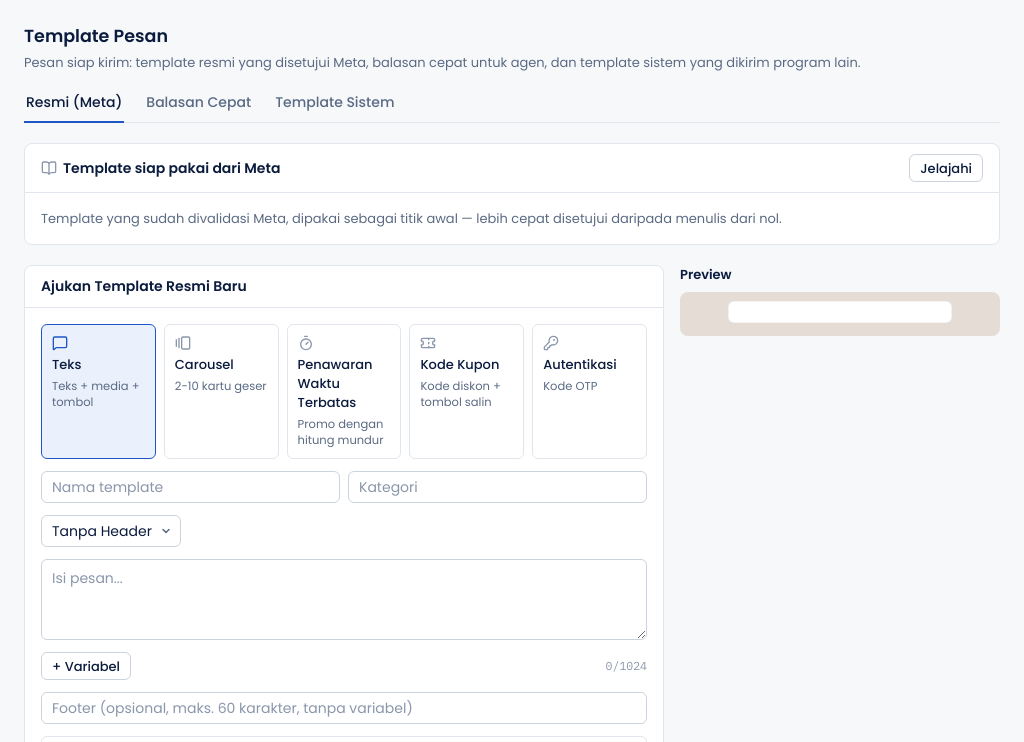
Test: TemplatesPage — carousel builder › adds a button to a card and shows the URL field only for a URL button
Expected: the element named "Format template" is shown, [41,324,647,459]
Click the text "Carousel" at (204, 364), box [175,355,234,374]
(page scrolled)
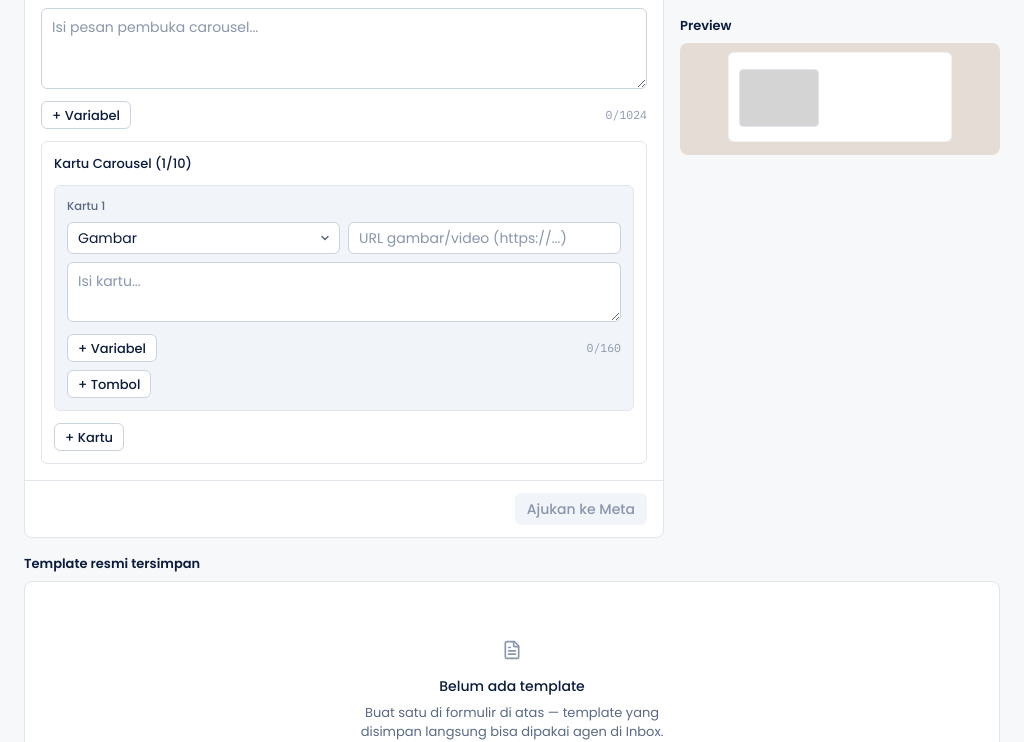
Click the button "+ Tombol" at (109, 384), box [67,370,151,398]
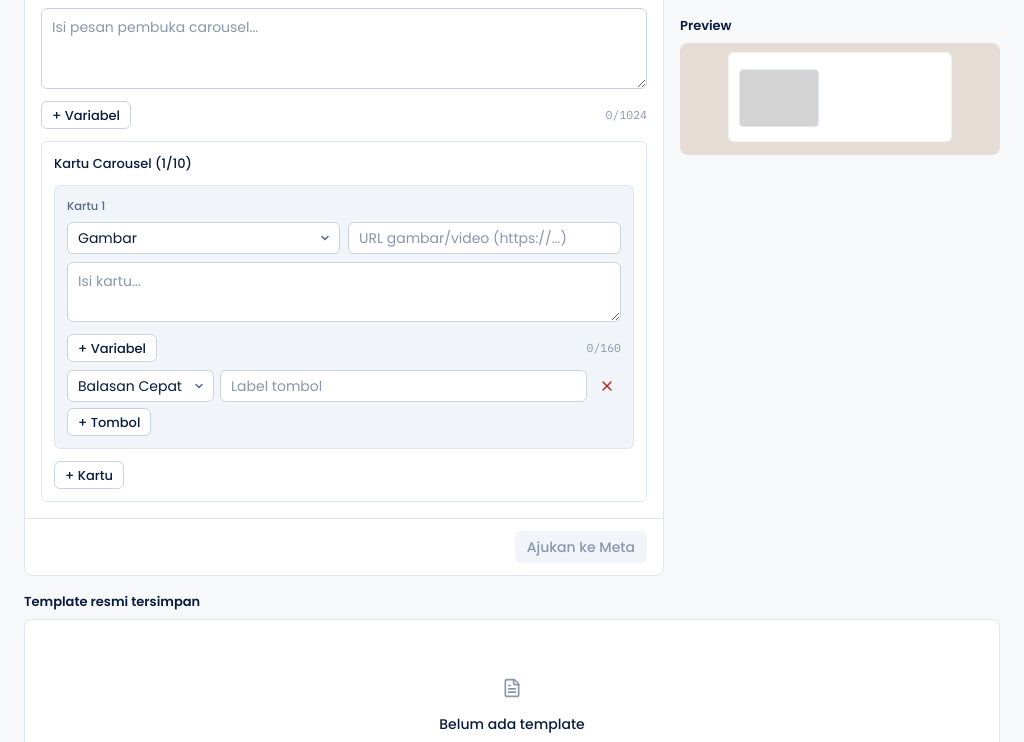
Expected: the field named "Label tombol 1 kartu 1" is shown, [220,370,587,402]
Select "Tautan URL" in the dropdown named "Tipe tombol 1 kartu 1" at (140, 386), box [67,370,214,402]
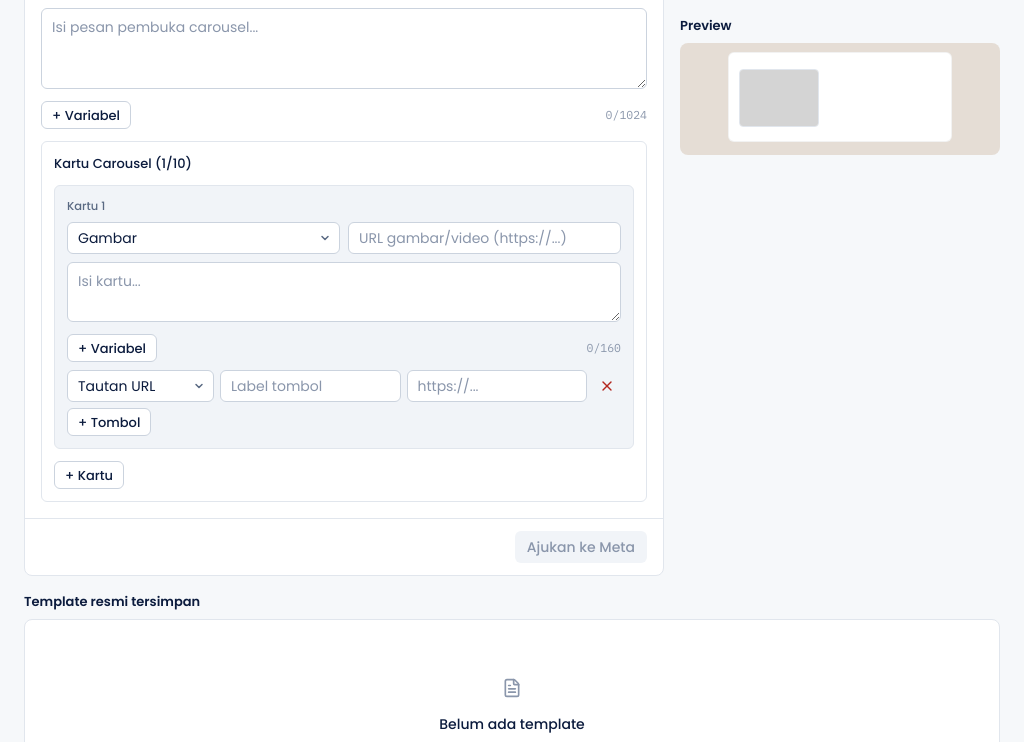
Expected: the field named "URL tombol 1 kartu 1" is shown, [406,370,587,402]
